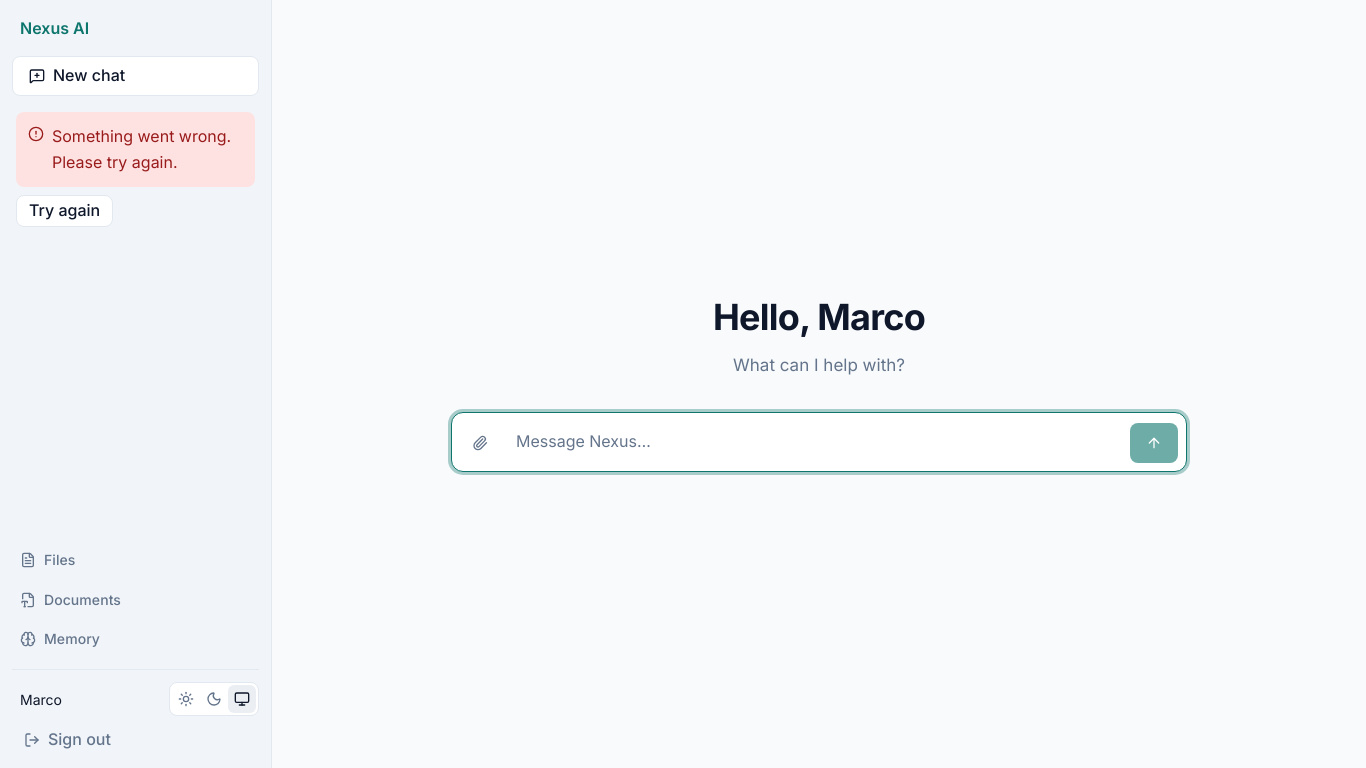
Test: conversation list › shows an error with a retry when the list cannot be loaded
Expected: the message shows "Something went wrong", [52,126,231,172]
Click the button "Try again". click: (65, 211)
box: [16,195,113,227]
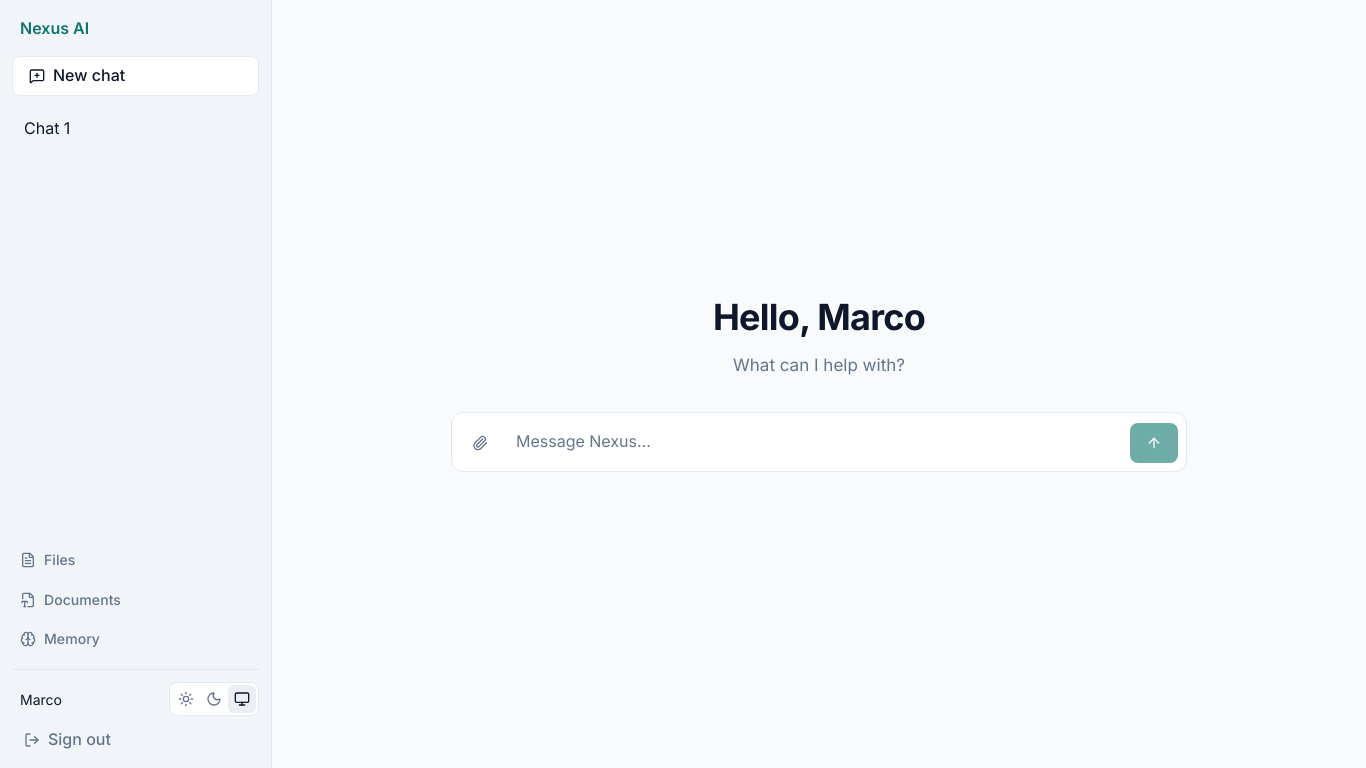
Result: the link "Chat 1" is shown at [24,118,70,138]
